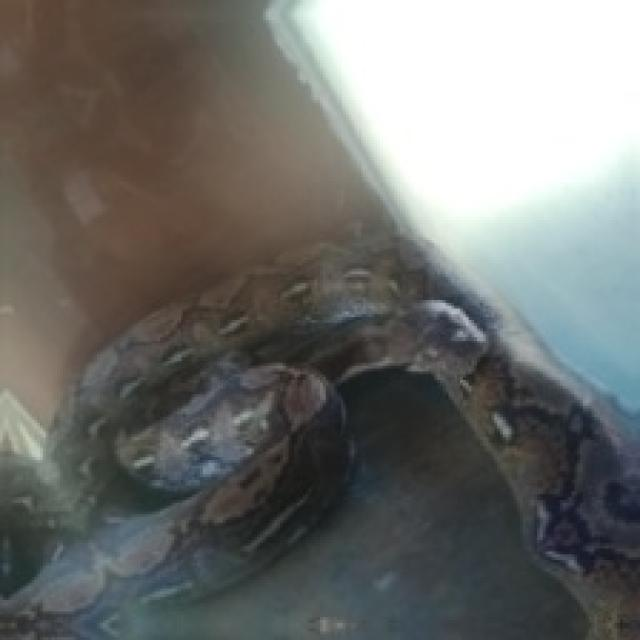reticulated python: (0, 234, 637, 637)
